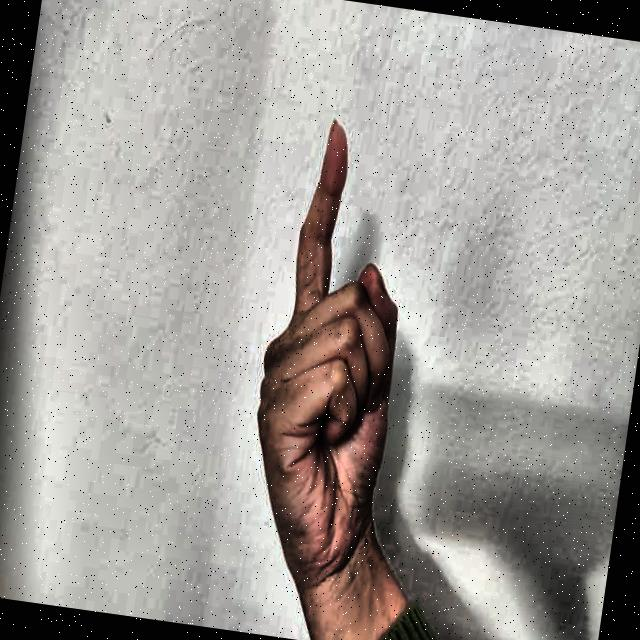U: (225, 72, 466, 594)
